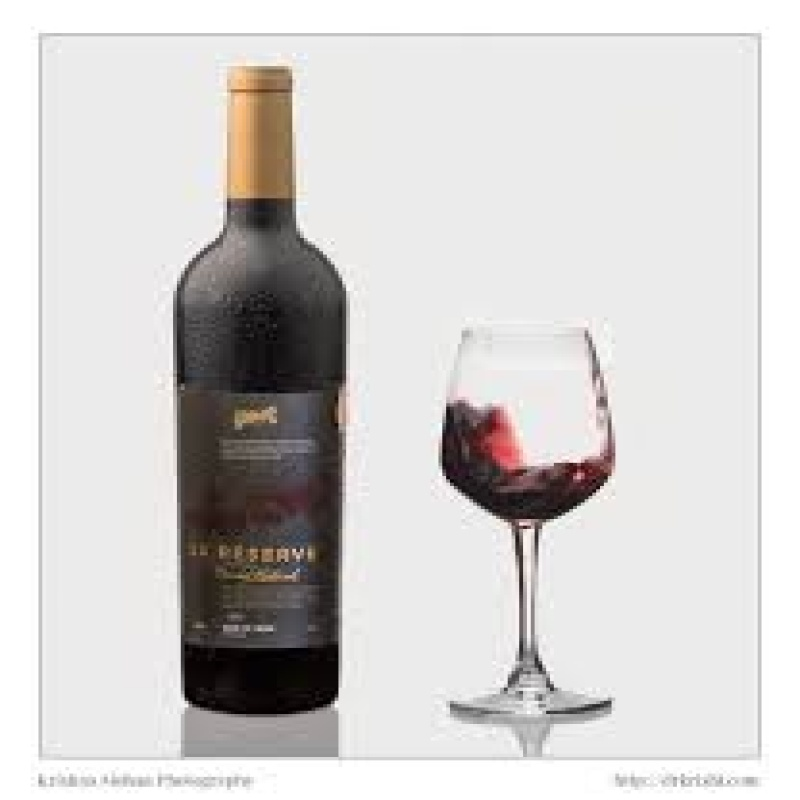wine: (175, 65, 349, 704)
